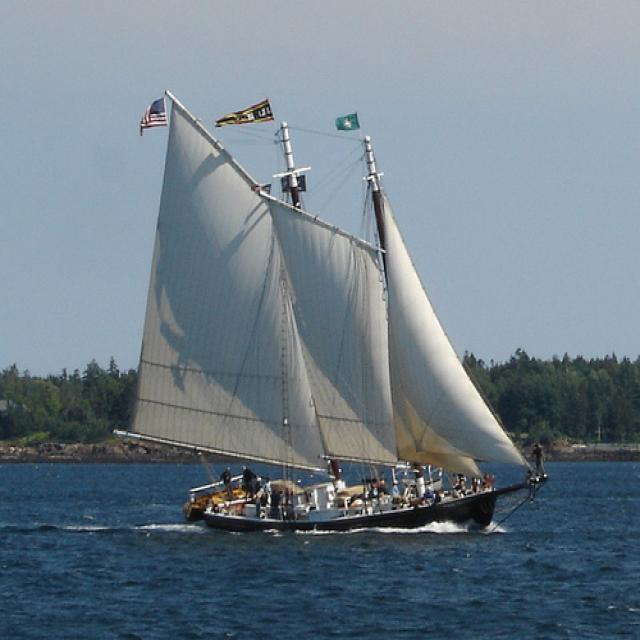Ship: (122, 94, 557, 546)
